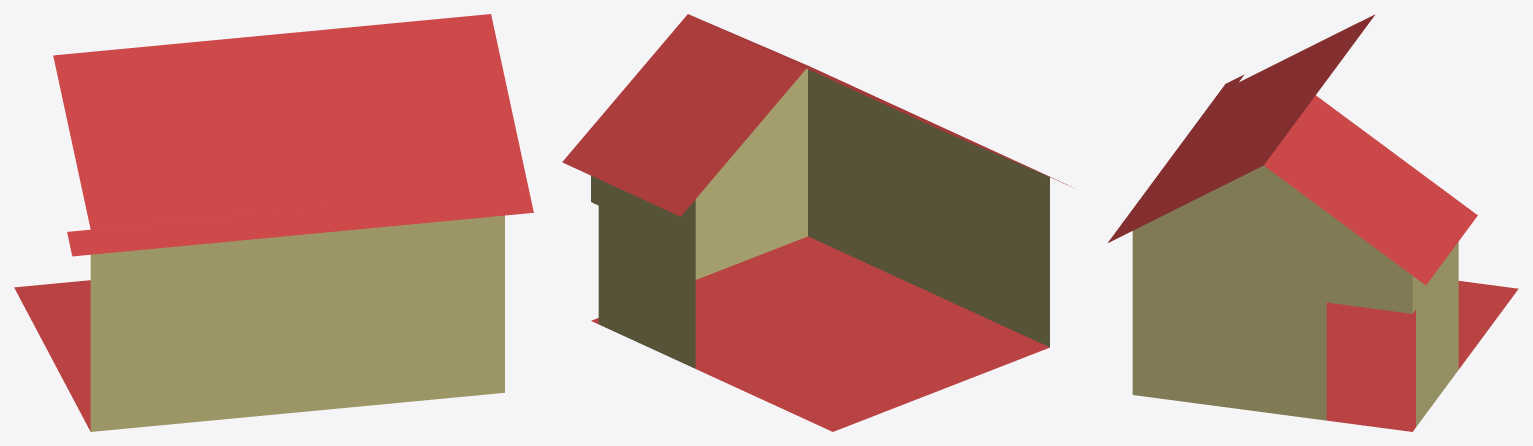
3 renders of one model, left to right at view 1: azimuth 30°, elevation 25°; view 2: azimuth 150°, elevation 25°; view 3: azimuth 270°, elevation 25°, orthographic. The views are drawn at different scales.
Size of the model in its own units: 23.54 by 20.29 by 13.92.
